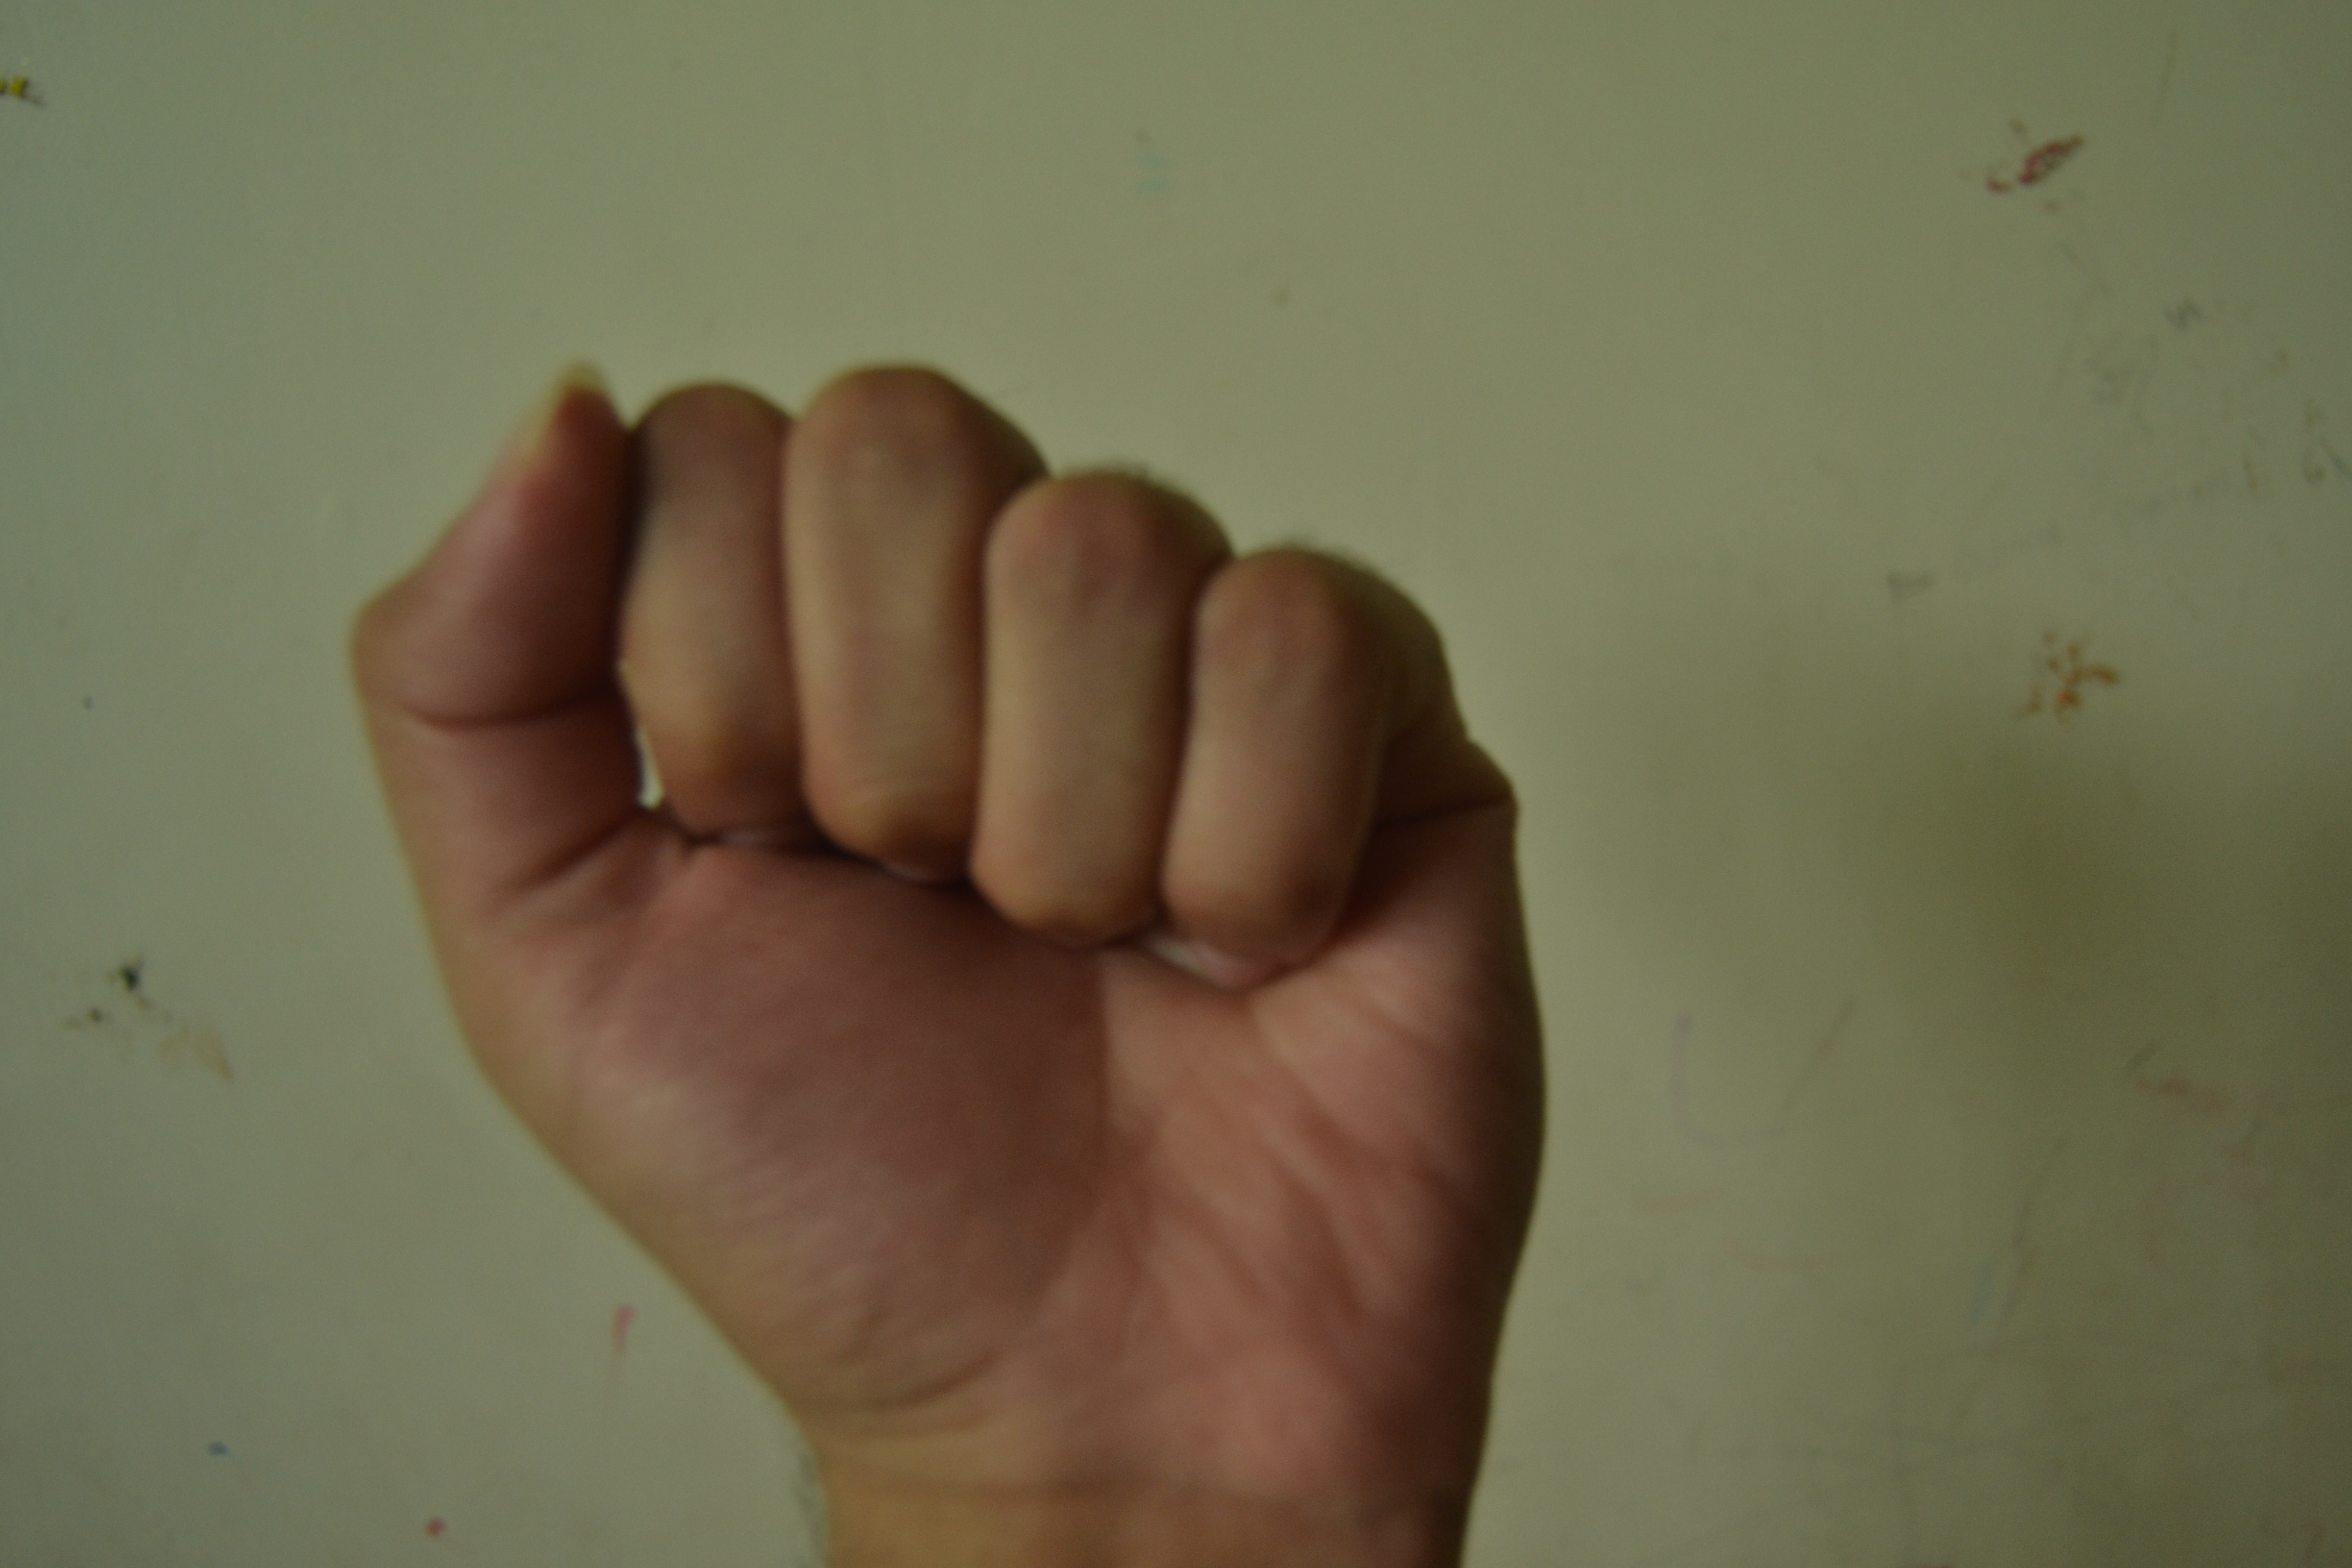click: (315, 315, 1598, 1493)
